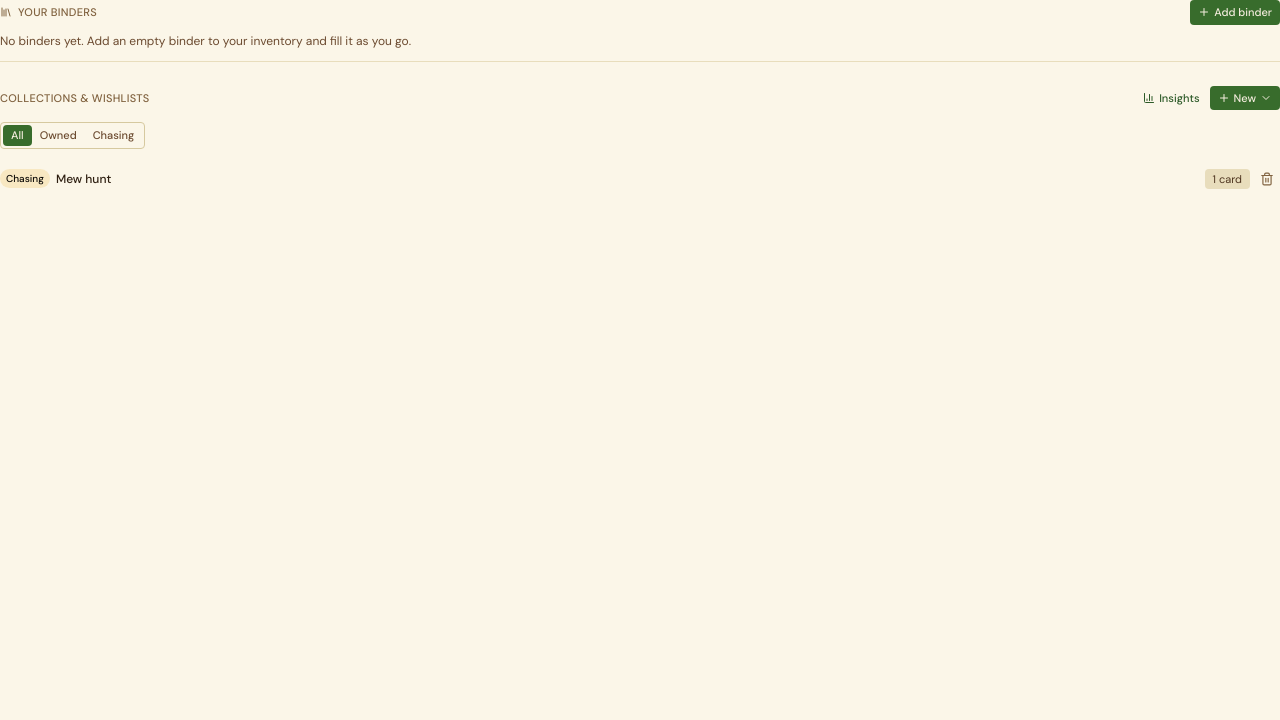
Scenario: LibraryBindersTab › opens the detail modal when a want-list row is clicked
Click the text "Mew hunt": (84,179) [56,171,111,187]
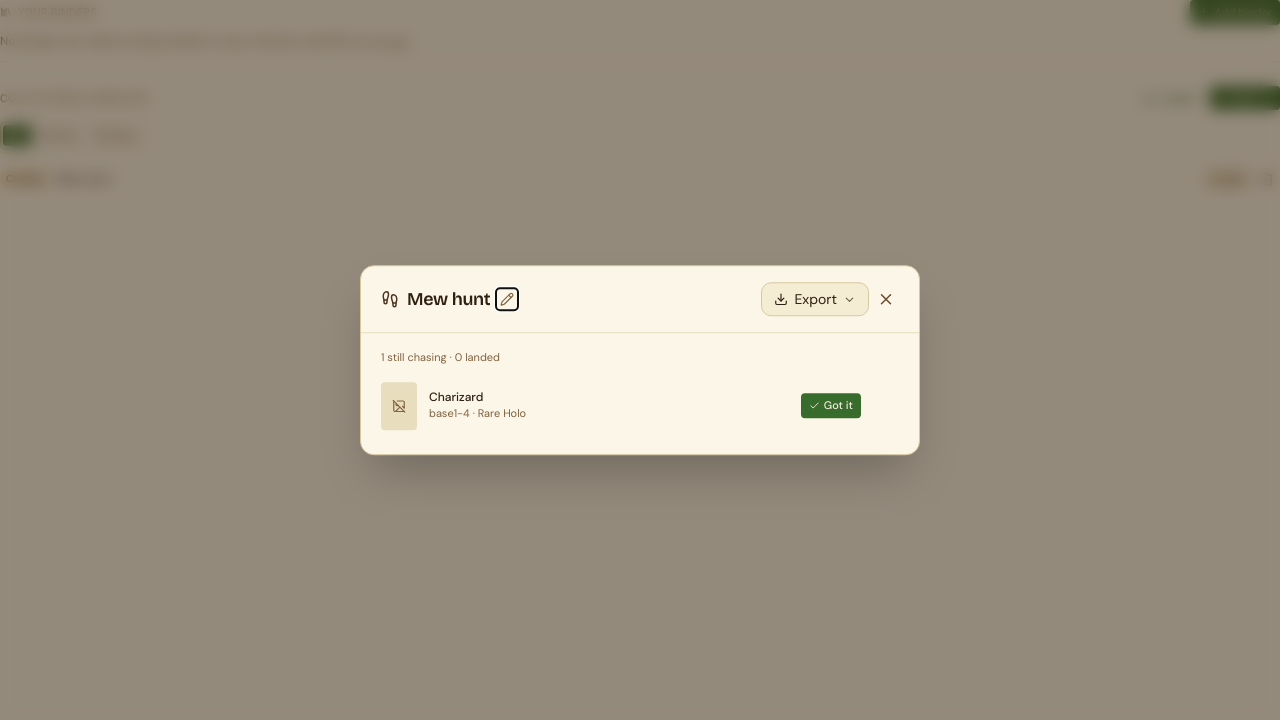
Expected: the text "1 still chasing · 0 landed" is shown, [381,350,500,364]
Expected: the text "Charizard" is shown, [429,390,483,406]
